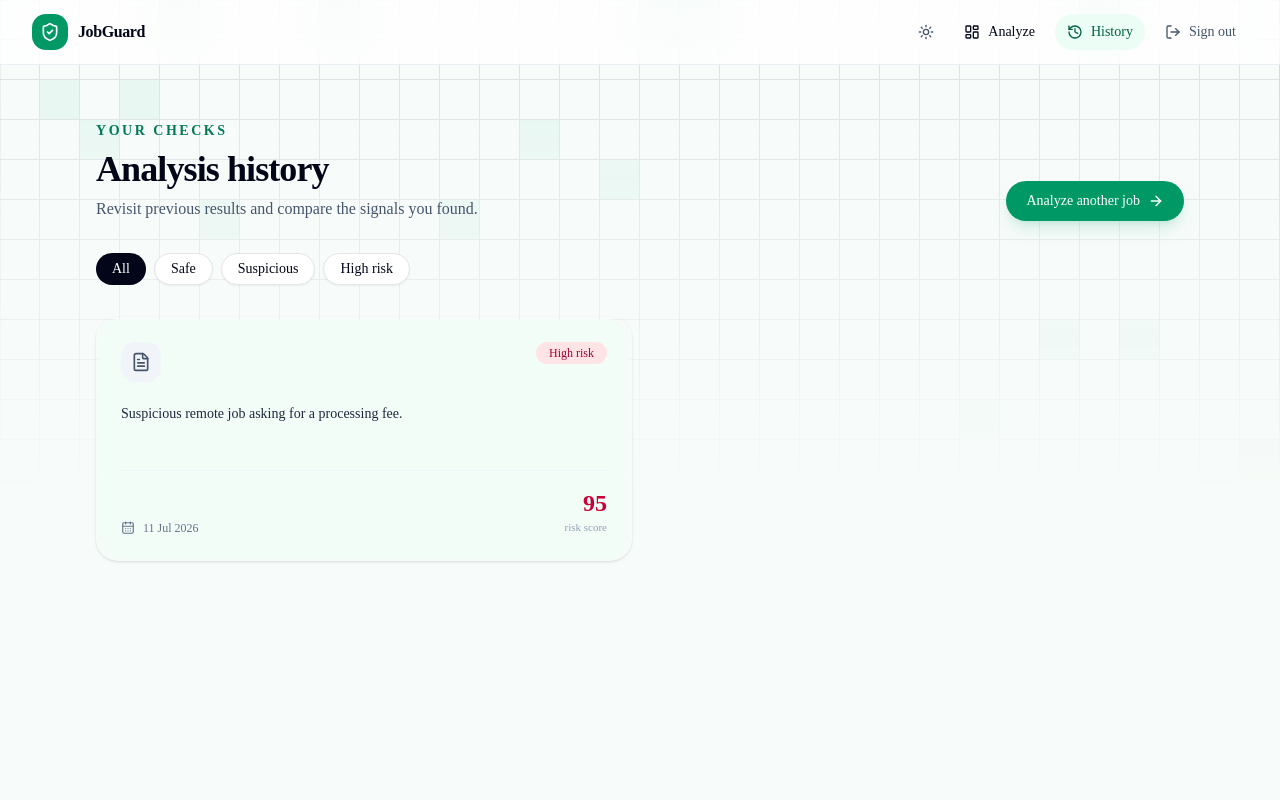
HistoryPage › renders records and filters by verdict
Expected: the text "Suspicious remote job asking for a processing fee." is shown, left=121, top=406, right=402, bottom=421
Click the button "Safe".
click(183, 269)  # box left=154, top=253, right=213, bottom=285
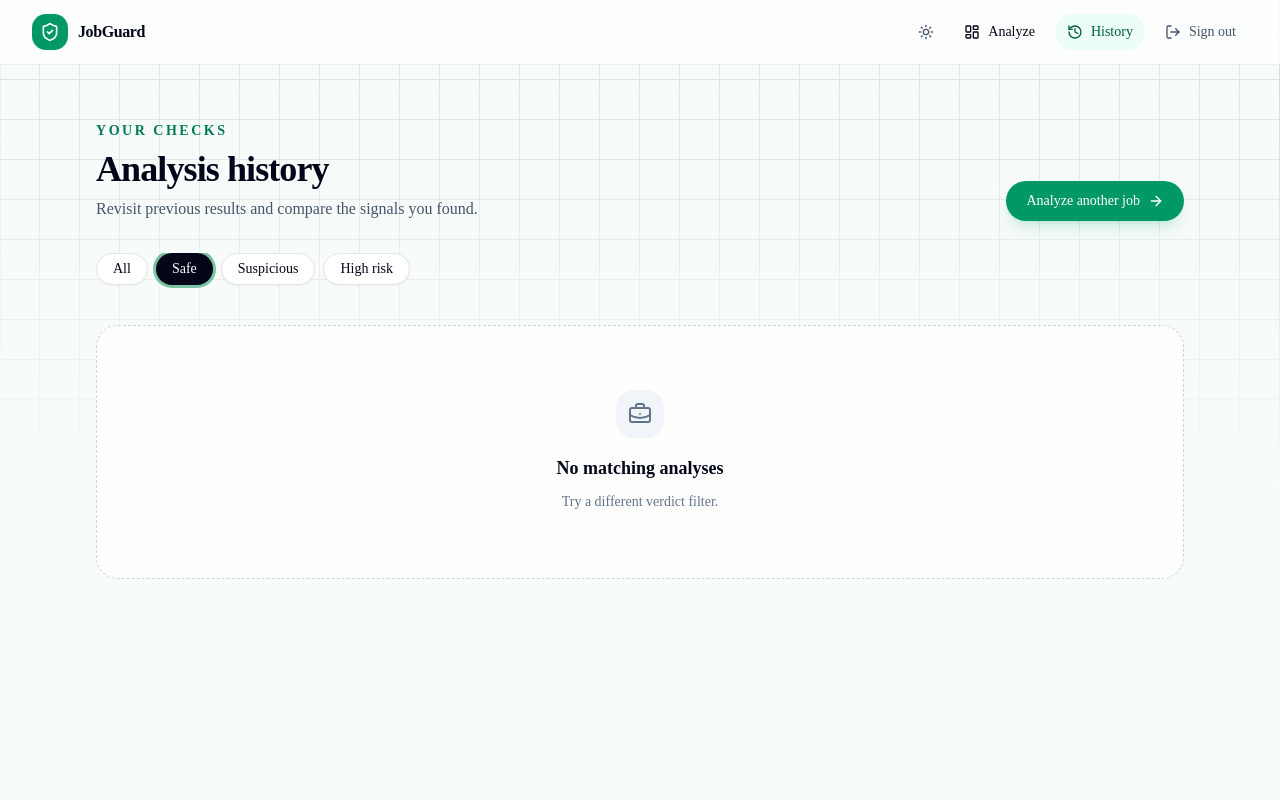
Now the heading "No matching analyses" is shown, box left=556, top=458, right=724, bottom=478
